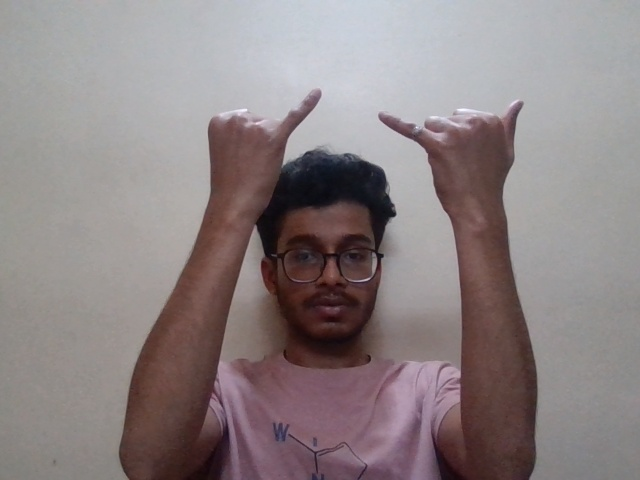today: (201, 82, 521, 215)
